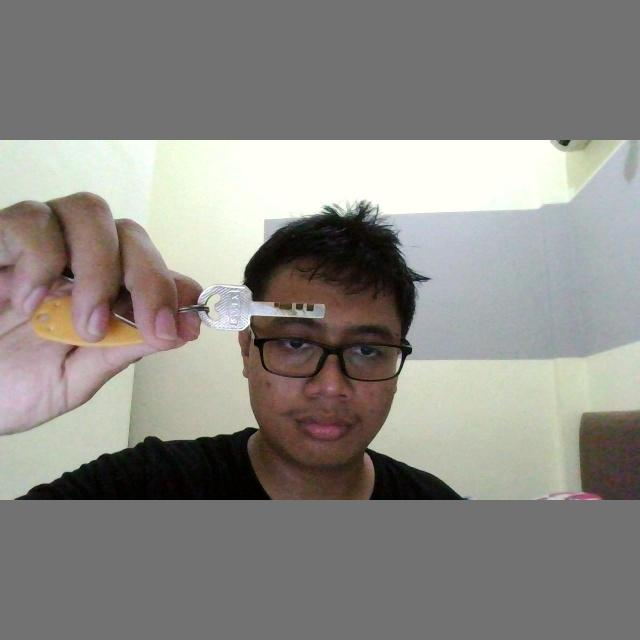Keys: (198, 278, 330, 334)
